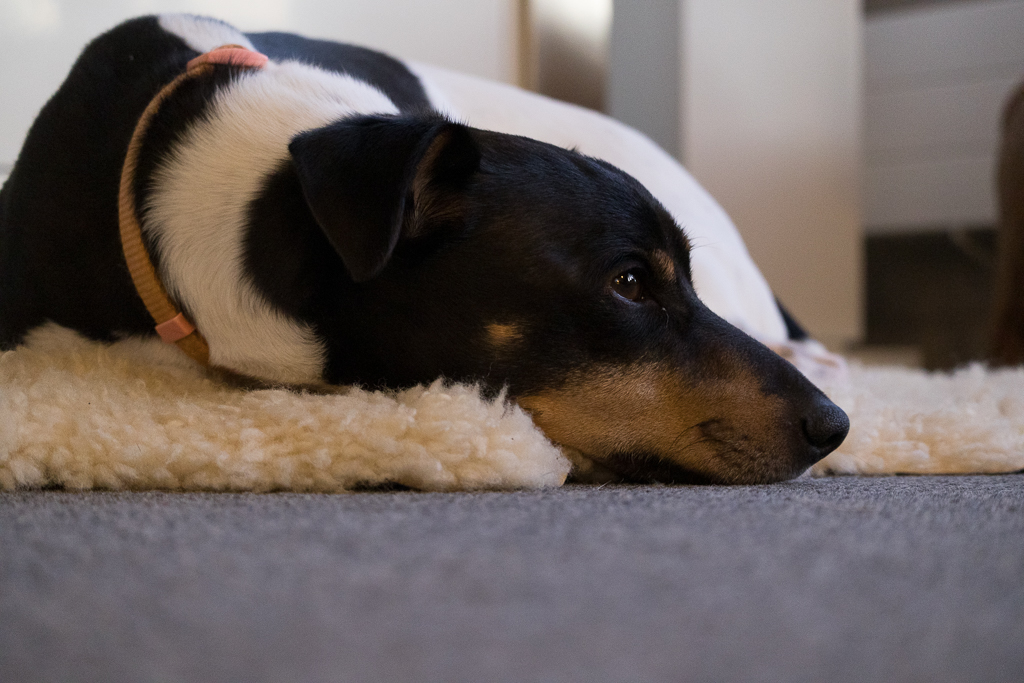Cattle: (970, 60, 1024, 390)
Dog: (0, 0, 855, 494)
